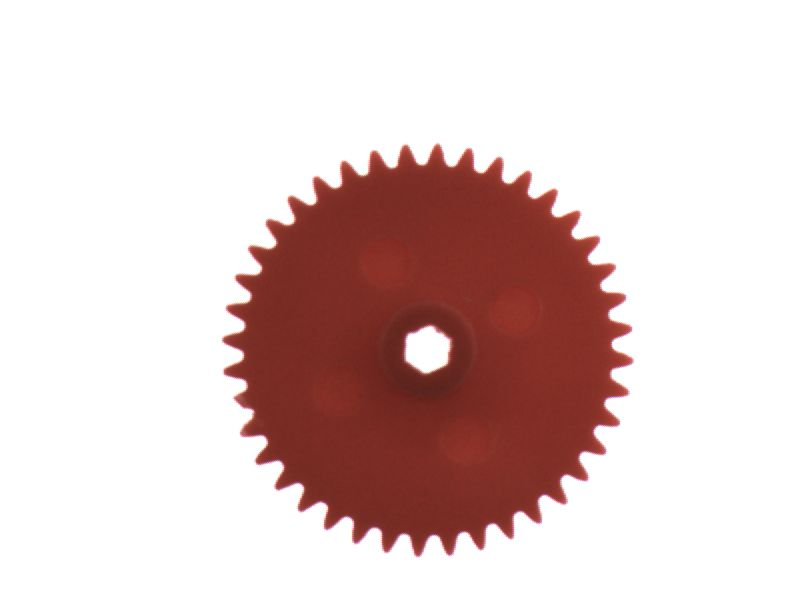defect_break: (205, 379, 270, 422)
